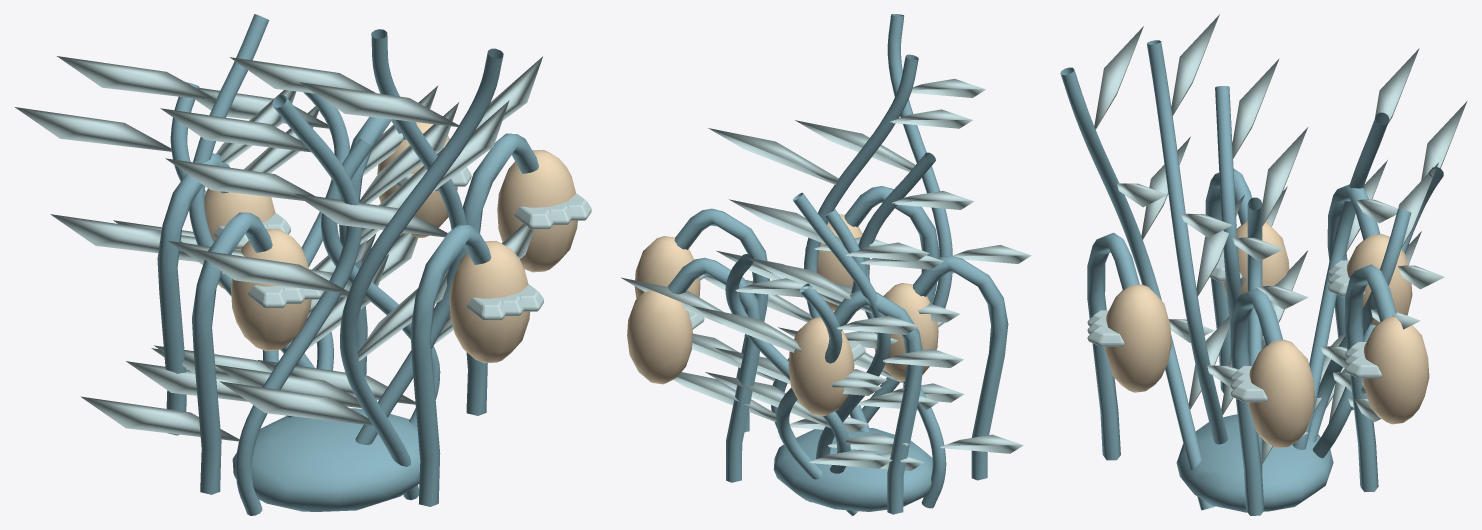
File: bio_aquatic_frond_03_far.glb
3 views of the same model, side by side, from view 1: azimuth 30°, elevation 25°; view 2: azimuth 150°, elevation 25°; view 3: azimuth 270°, elevation 25° (orthographic). The views are drawn at different scales.
Parts seen in each view (by area): view 1: Holdfast, Ruffled aquatic blade.010, Ruffled aquatic blade.020, Ruffled aquatic blade.025, Flexible stipe.002, Ruffled aquatic blade.005, Flexible stipe.004, Arched fruit stem.002, Arched fruit stem.004, Pendant spore capsule.002, Pendant spore capsule, Ruffled aquatic blade (+16 smaller); view 2: Holdfast, Ruffled aquatic blade.030, Pendant spore capsule.003, Ruffled aquatic blade.005, Arched fruit stem.004, Ruffled aquatic blade.025, Pendant spore capsule.001, Arched fruit stem.001, Ruffled aquatic blade.020, Arched fruit stem.003, Ruffled aquatic blade.010, Ruffled aquatic blade.015 (+13 smaller); view 3: Holdfast, Flexible stipe.005, Pendant spore capsule.002, Flexible stipe.002, Pendant spore capsule, Pendant spore capsule.003, Arched fruit stem.002, Arched fruit stem, Ruffled aquatic blade.010, Arched fruit stem.003, Ruffled aquatic blade.025, Flexible stipe.001 (+17 smaller).
Part boxes in pixels (<box>): Holdfast: <box>232,408,420,511</box>; Ruffled aquatic blade.010: <box>189,82,509,425</box>; Ruffled aquatic blade.020: <box>81,102,459,441</box>; Ruffled aquatic blade.025: <box>215,56,542,408</box>; Flexible stipe.002: <box>340,48,503,499</box>; Ruffled aquatic blade.005: <box>50,56,367,381</box>; Flexible stipe.004: <box>235,94,361,515</box>; Arched fruit stem.002: <box>410,224,491,506</box>; Arched fruit stem.004: <box>192,212,272,494</box>; Pendant spore capsule.002: <box>449,241,530,363</box>; Pendant spore capsule: <box>497,150,577,272</box>; Ruffled aquatic blade: <box>165,148,453,404</box>; Holdfast: <box>773,428,932,511</box>; Ruffled aquatic blade.030: <box>673,306,919,468</box>; Pendant spore capsule.003: <box>627,286,692,384</box>; Ruffled aquatic blade.005: <box>715,242,963,452</box>; Arched fruit stem.004: <box>912,255,1008,480</box>; Ruffled aquatic blade.025: <box>704,109,972,410</box>; Pendant spore capsule.001: <box>788,317,854,415</box>; Arched fruit stem.001: <box>833,290,923,514</box>; Ruffled aquatic blade.020: <box>729,190,1023,453</box>; Arched fruit stem.003: <box>668,257,761,482</box>; Ruffled aquatic blade.010: <box>795,78,1031,402</box>; Ruffled aquatic blade.015: <box>621,277,924,470</box>; Holdfast: <box>1176,414,1333,512</box>; Flexible stipe.005: <box>1147,40,1227,444</box>; Pendant spore capsule.002: <box>1104,284,1171,392</box>; Flexible stipe.002: <box>1060,67,1214,510</box>; Pendant spore capsule: <box>1247,339,1315,448</box>; Pendant spore capsule.003: <box>1362,316,1429,424</box>; Arched fruit stem.002: <box>1087,232,1139,460</box>; Arched fruit stem: <box>1230,288,1282,515</box>; Ruffled aquatic blade.010: <box>1094,26,1229,409</box>; Arched fruit stem.003: <box>1344,264,1396,492</box>; Ruffled aquatic blade.025: <box>1171,14,1244,414</box>; Flexible stipe.001: <box>1292,112,1389,449</box>.
Size of the model in its own units: 1.89 by 1.89 by 1.56.
